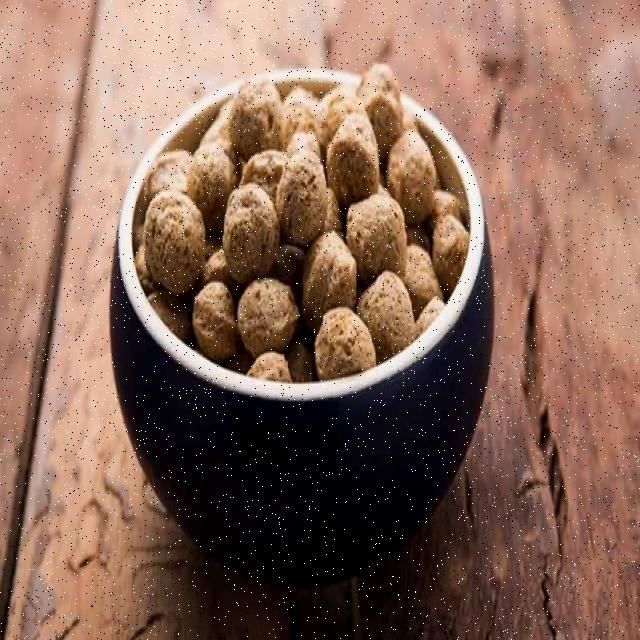Soy Chunks: (180, 110, 415, 332), (228, 74, 286, 161)
